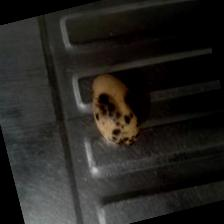Mango Overripe: (78, 60, 152, 152)
